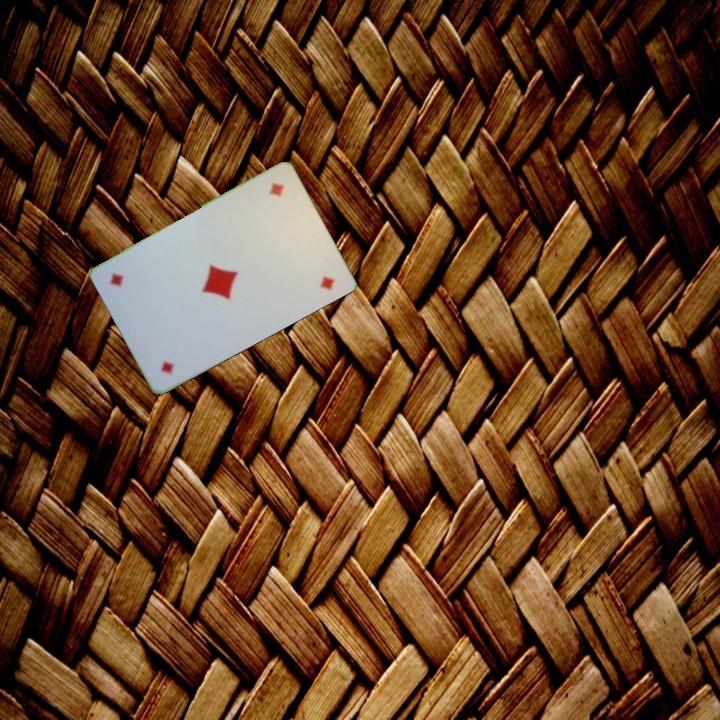d_a.png: (234, 172, 315, 256), (129, 299, 209, 383)
